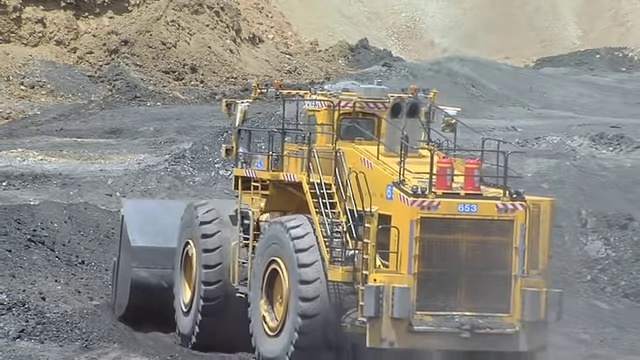wheel loader: (114, 79, 565, 360)
